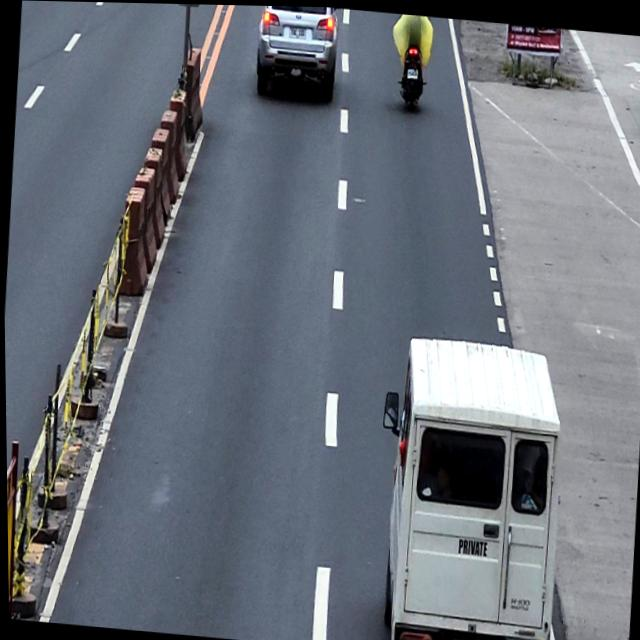Car: (363, 328, 571, 640), (252, 4, 340, 100)
License-Plate: (287, 22, 307, 39), (448, 634, 487, 640), (406, 65, 418, 78)
Motorcycle: (395, 39, 429, 106)
